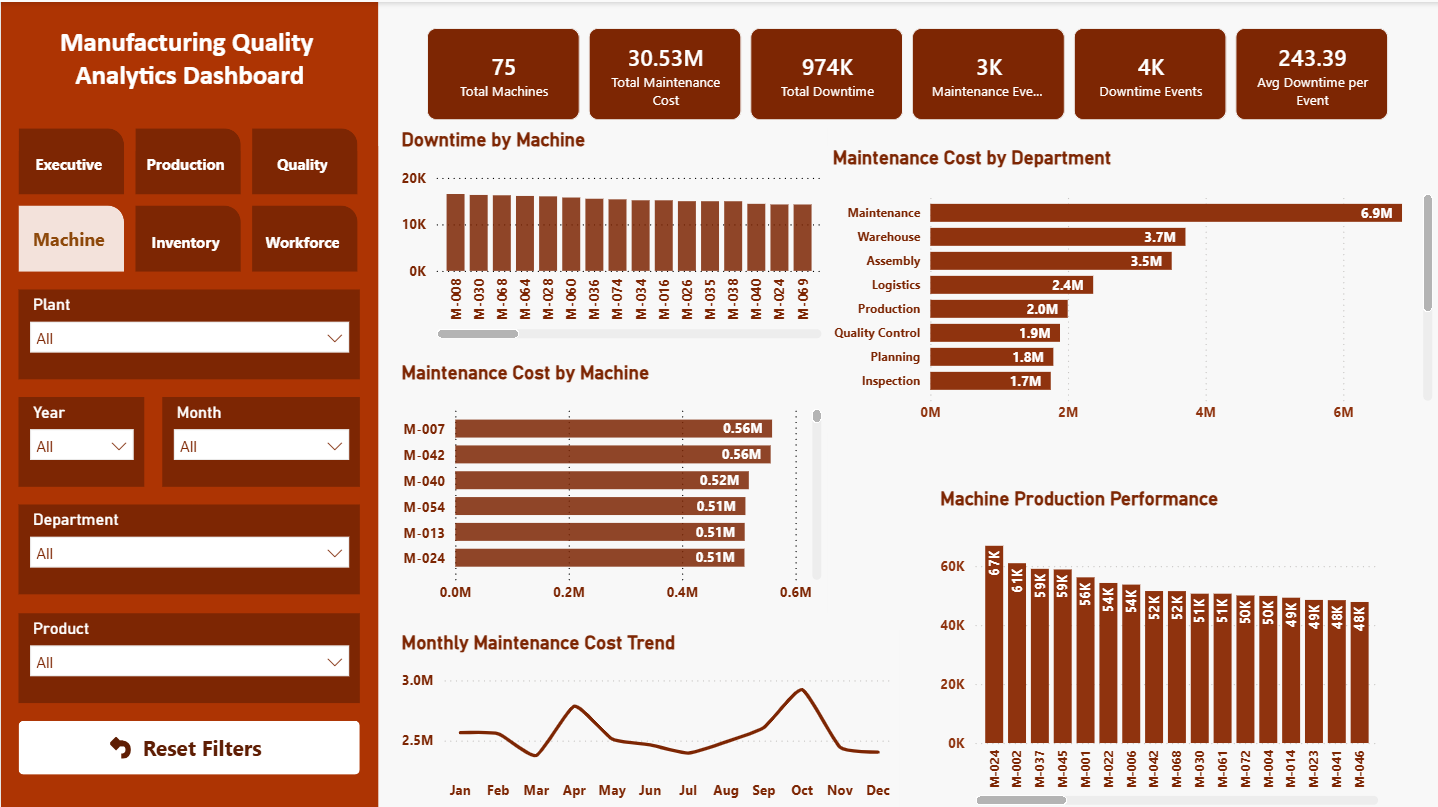

The page's visual inventory and layout, read from the dashboard file:
{"tool":"powerbi","page":{"name":"Machine","canvas":[1280,720],"ordinal":3},"visuals":[{"type":"group","id":"g1","title":"Sidebar","box":[0,0,336,720],"z":0},{"type":"textbox","box":[0,0,336,720],"z":500,"group":"g1"},{"type":"cardVisual","fields":{"Data":["Metrics.Total Machines","Metrics.Total Maintenance Cost","Metrics.Total Downtime","Metrics.Maintenance Events","Metrics.Downtime Events","Metrics.Avg Downtime per Event"]},"box":[336,0,944,128],"z":1000},{"type":"slicer","fields":{"Values":["Date.Month"]},"box":[144,352,176,80],"z":1000,"group":"g1"},{"type":"clusteredBarChart","title":"Maintenance Cost by Machine","fields":{"Category":["Machine.Machine Display Name"],"Y":["Metrics.Total Maintenance Cost"]},"box":[352,320,384,224],"z":2000},{"type":"slicer","fields":{"Values":["Date.Year"]},"box":[16,352,112,80],"z":2000,"group":"g1"},{"type":"clusteredColumnChart","title":"Downtime by Machine","fields":{"Category":["Machine.Machine Display Name"],"Y":["Metrics.Total Downtime"]},"box":[352,112,384,192],"z":3000},{"type":"slicer","title":"Plant","fields":{"Values":["Plant.plant_name"]},"box":[16,256,304,80],"z":4000,"group":"g1"},{"type":"clusteredColumnChart","title":"Machine Production Performance","fields":{"Category":["Machine.Machine Display Name"],"Y":["Metrics.Total Produced Quantity"]},"box":[832,432,400,288],"z":4000},{"type":"clusteredBarChart","title":"Maintenance Cost by Department","fields":{"Category":["Department.department_name"],"Y":["Metrics.Total Maintenance Cost"]},"box":[736,128,544,256],"z":5000},{"type":"lineChart","title":"Monthly Maintenance Cost Trend","fields":{"Category":["Date.Month Sh"],"Y":["Metrics.Total Maintenance Cost"]},"box":[352,560,448,160],"z":6000},{"type":"pageNavigator","box":[16,112,304,128],"z":9000},{"type":"slicer","title":"Plant","fields":{"Values":["Department.department_name"]},"box":[16,448,304,80],"z":10000,"group":"g1"},{"type":"slicer","title":"Plant","fields":{"Values":["Product.product_name"]},"box":[16,544,304,80],"z":11000,"group":"g1"},{"type":"actionButton","box":[16,640,304,48],"z":12000,"group":"g1"}]}

Visuals, with their boxes in screenshot pixels (x1, y1, x2, y2), scaled from the page's 1280x720 canvas onto the 1438x807 screenshot:
"Sidebar" group: {"left": 0, "top": 0, "right": 377, "bottom": 806}
textbox: {"left": 0, "top": 0, "right": 377, "bottom": 806}
cardVisual - Metrics.Total Machines x Metrics.Total Maintenance Cost: {"left": 377, "top": 0, "right": 1437, "bottom": 143}
slicer - Date.Month: {"left": 162, "top": 395, "right": 360, "bottom": 484}
"Maintenance Cost by Machine" clusteredBarChart: {"left": 395, "top": 359, "right": 827, "bottom": 610}
slicer - Date.Year: {"left": 18, "top": 395, "right": 144, "bottom": 484}
"Downtime by Machine" clusteredColumnChart: {"left": 395, "top": 126, "right": 827, "bottom": 341}
"Plant" slicer: {"left": 18, "top": 287, "right": 360, "bottom": 377}
"Machine Production Performance" clusteredColumnChart: {"left": 935, "top": 484, "right": 1384, "bottom": 806}
"Maintenance Cost by Department" clusteredBarChart: {"left": 827, "top": 143, "right": 1437, "bottom": 430}
"Monthly Maintenance Cost Trend" lineChart: {"left": 395, "top": 628, "right": 899, "bottom": 806}
pageNavigator: {"left": 18, "top": 126, "right": 360, "bottom": 269}
"Plant" slicer: {"left": 18, "top": 502, "right": 360, "bottom": 592}
"Plant" slicer: {"left": 18, "top": 610, "right": 360, "bottom": 699}
actionButton: {"left": 18, "top": 717, "right": 360, "bottom": 771}
